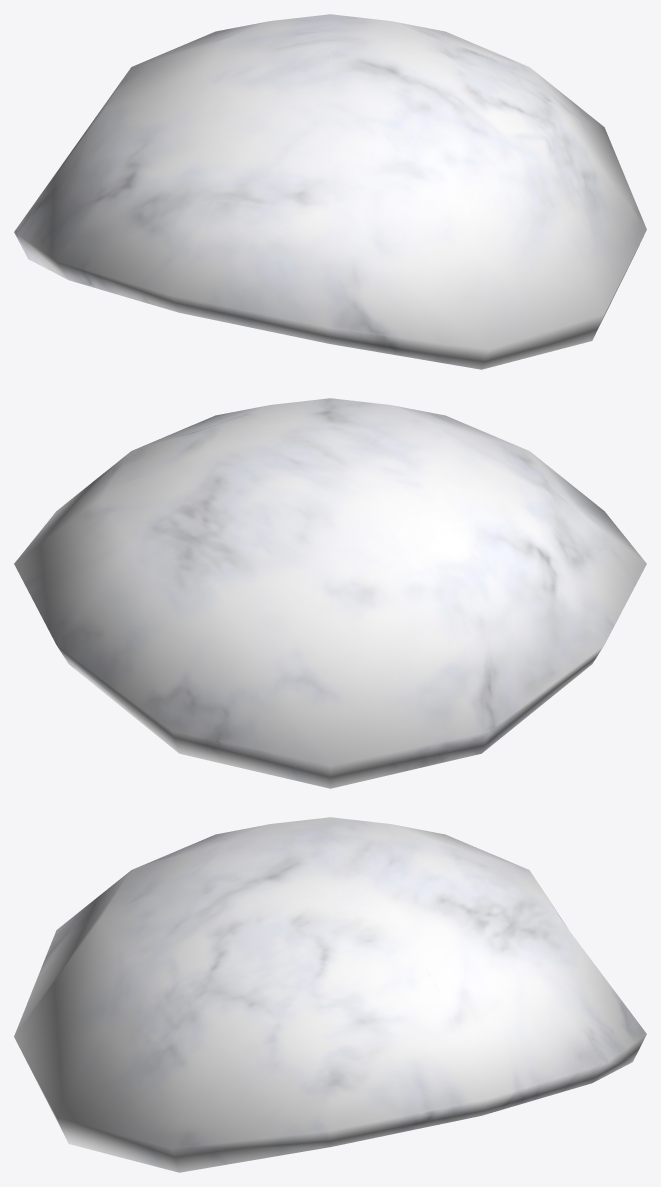
The model's file is Rayceiver_Top.fbx.
The picture shows the model from 3 angles, top to bottom: view 1: azimuth 30°, elevation 25°; view 2: azimuth 150°, elevation 25°; view 3: azimuth 270°, elevation 25°; orthographic projection.
Parts seen in each view (by area): view 1: Rayceiver_Top; view 2: Rayceiver_Top; view 3: Rayceiver_Top.
Part boxes in pixels (x1,y1,x2,y2): Rayceiver_Top: (14,14,646,369); Rayceiver_Top: (14,398,646,788); Rayceiver_Top: (14,817,646,1172).
Size of the model in its own units: 64.91 by 25.93 by 64.91.
